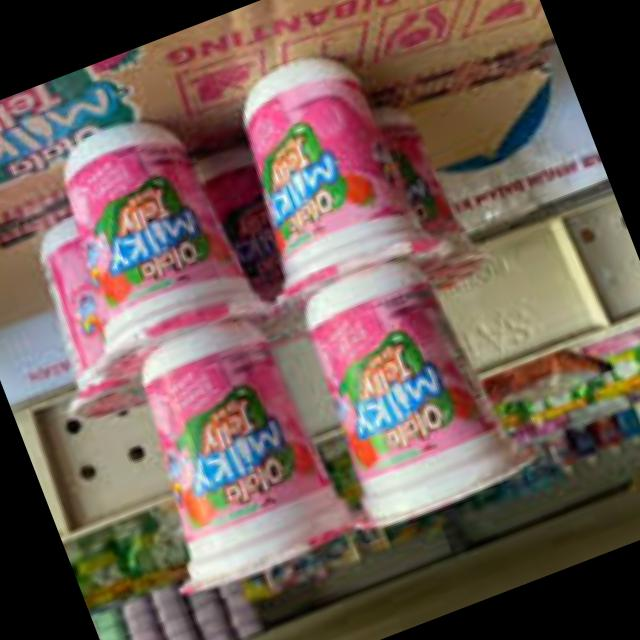GelasPlastik: (96, 301, 362, 604), (282, 236, 546, 536)
